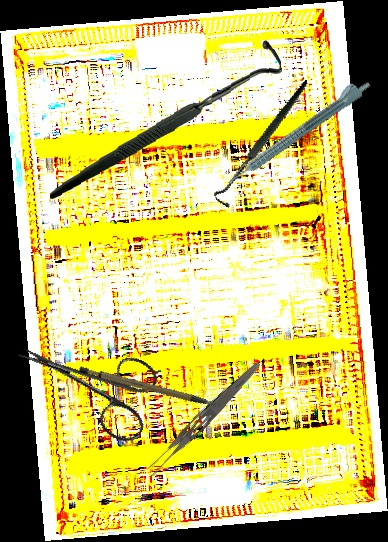Dressing Forceps: (143, 355, 264, 480)
Handpiece: (220, 72, 375, 188)
Hook Surgical: (42, 37, 288, 201), (186, 79, 342, 212)
Iris Scissors: (2, 315, 168, 447)
Scalpel Handle: (77, 347, 224, 431)
